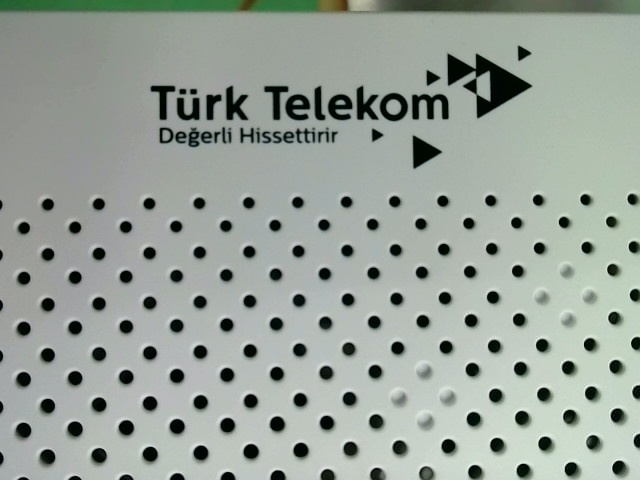AQ_TURKTelekom: (146, 36, 535, 171)
